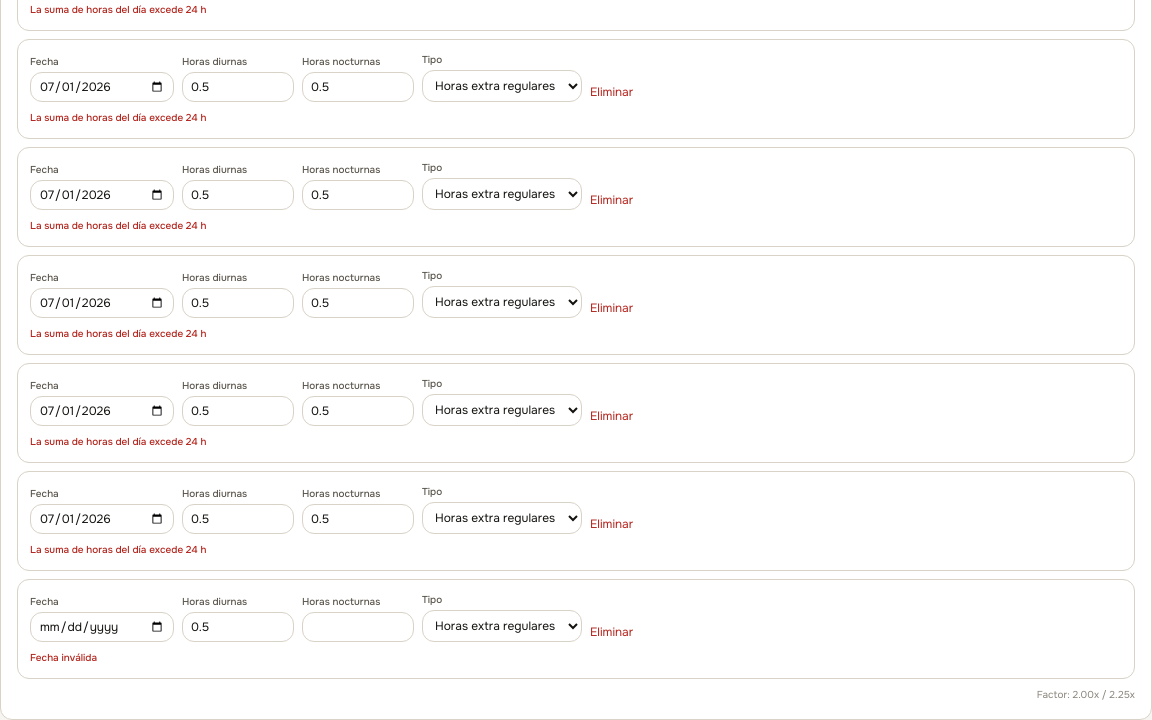
it: EntradasPeriodo › límite al editar el estado candidato (FE-03) › 100 → 101 segmentos: editar una fila con fecha inválida a válida se bloquea
(page scrolled)
Note: Editar la fecha de la fila rota a una válida proyectaría 101 → bloqueado.
Type "2026-07-02" into the 6th date field labelled "Fecha" at (102, 627), box [30,612,174,642]
(page scrolled)
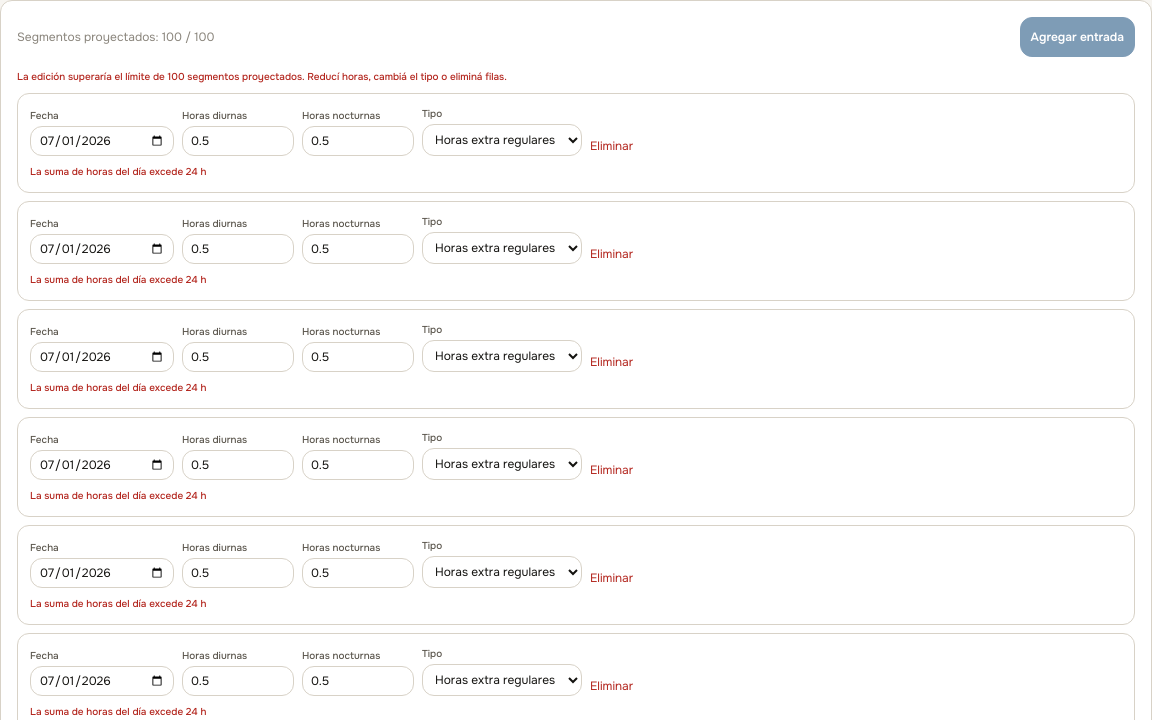
Check: the text "Segmentos proyectados: 100 / 100" is shown, box [17,29,215,45]
Check: the text "superaría el límite de 100 segmentos proyectados" is shown, box [17,70,507,83]
